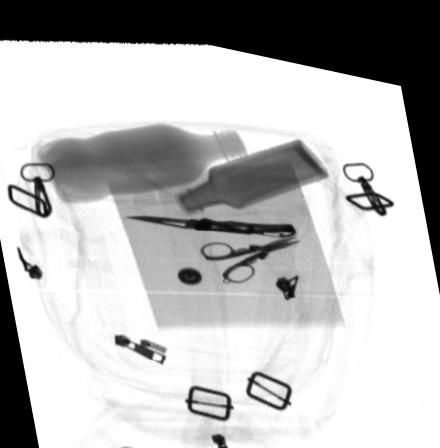Knife: (124, 207, 298, 224)
Scissors: (196, 221, 297, 274)
